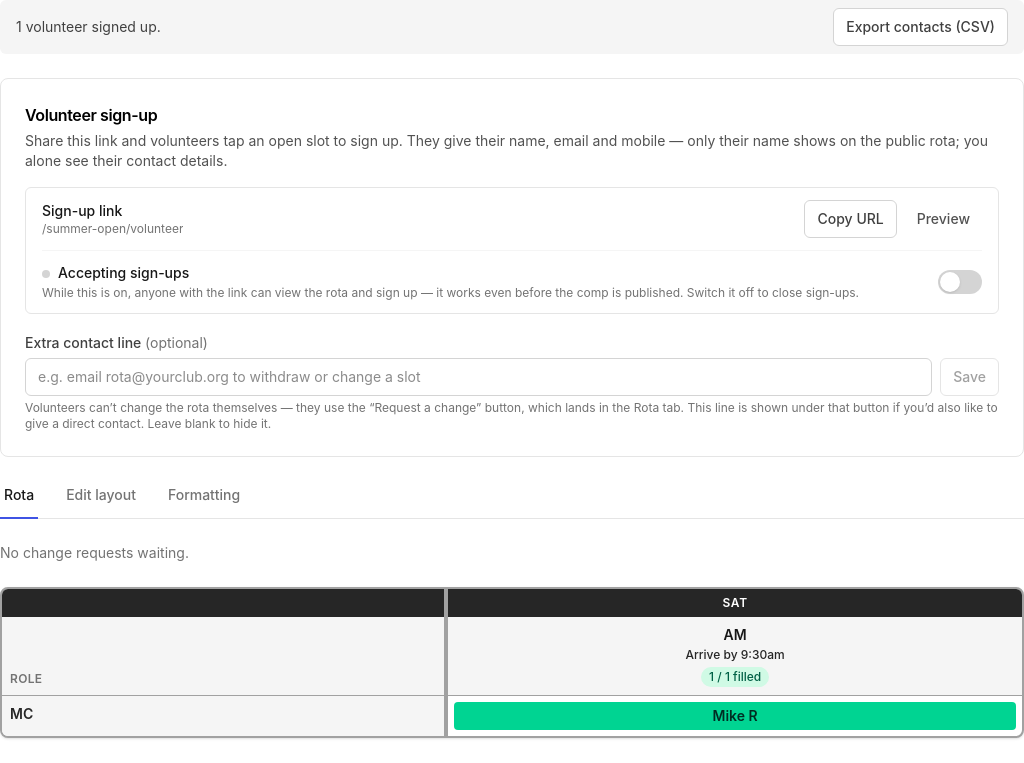
Test: RotaBuilder — layout › renders the sign-up link and, under Edit layout, each role with its fill count
Check: the text "/summer-open/volunteer" is shown, box [42,221,183,237]
Click the tab "Edit layout" at (101, 500), box [62,481,140,519]
(page scrolled)
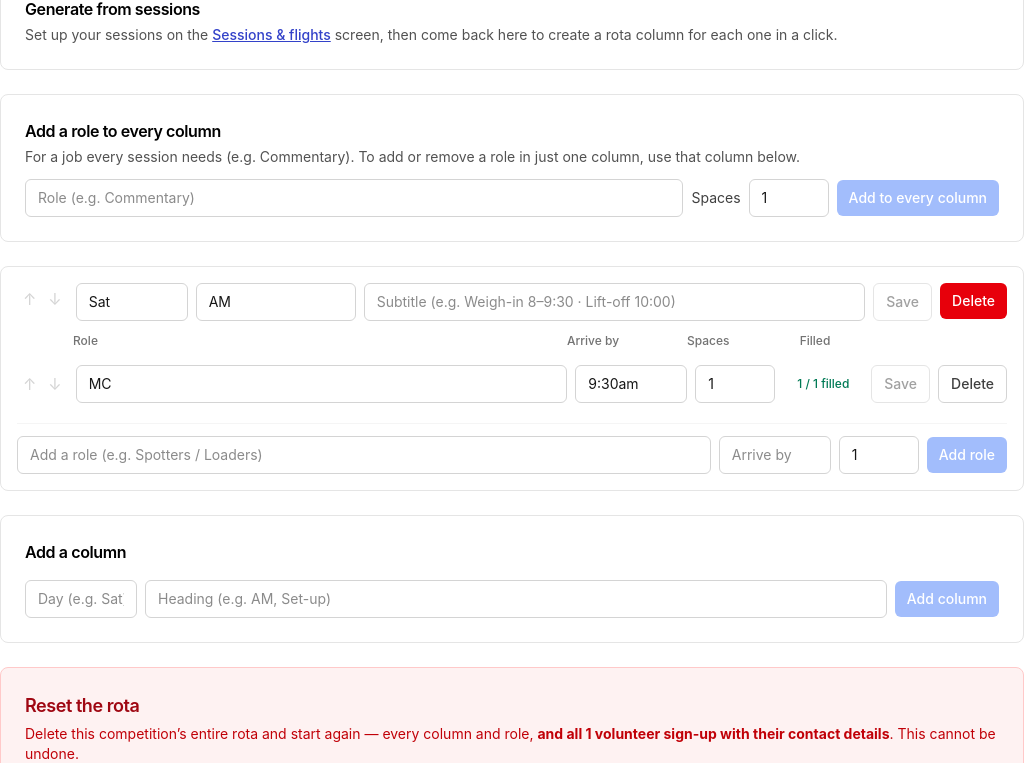
Check: the text "1 / 1 filled" is shown, box [797,376,849,391]
Check: the field showing "MC" is shown, box [76,365,567,403]
